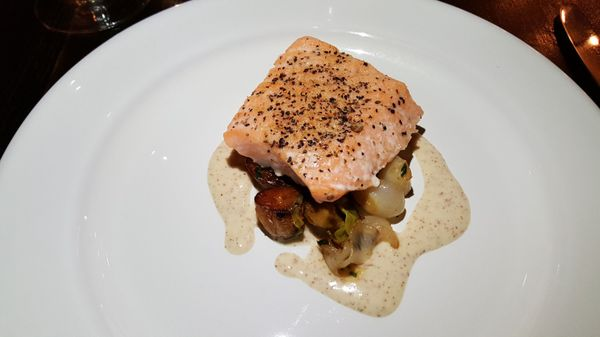salad: (556, 1, 600, 100)
soup: (209, 35, 471, 318)
